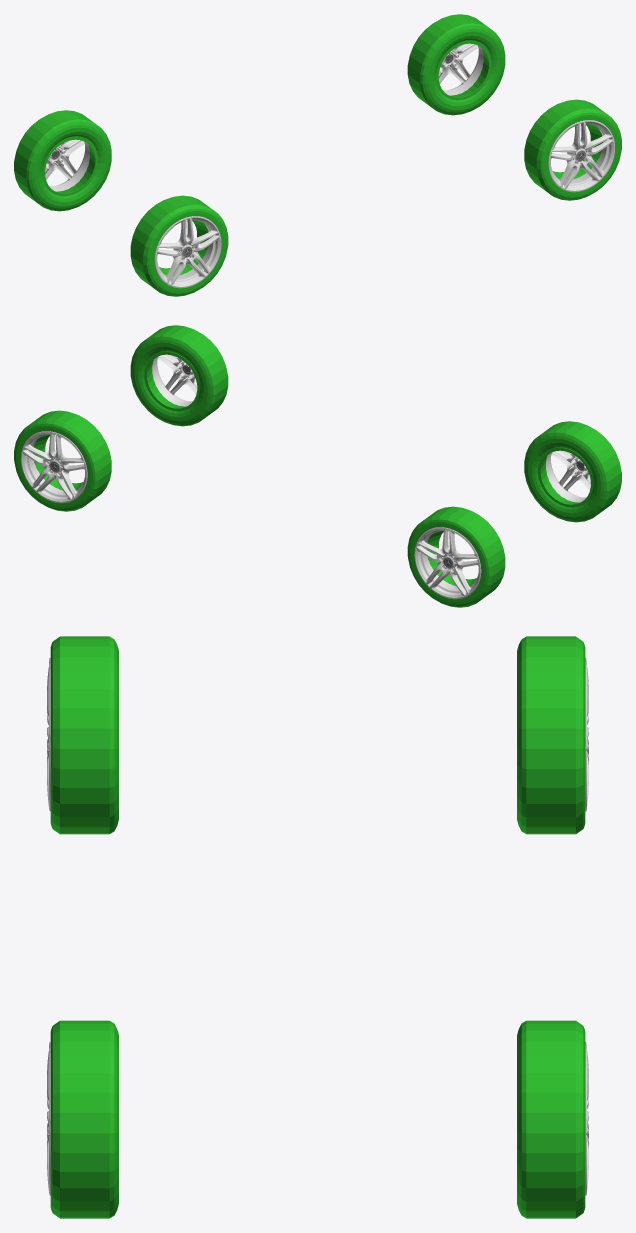
Rendered from RTD.glb.
The picture shows the model from 3 angles, top to bottom: view 1: azimuth 30°, elevation 25°; view 2: azimuth 150°, elevation 25°; view 3: azimuth 270°, elevation 25°; orthographic projection. The views are drawn at different scales.
Parts seen in each view (by area): view 1: Tire_Rubber007, Tire_Rubber008, _213_V_glossy_black_rim_006, _213_V_glossy_black_rim_001.006, _213_V_glossy_silver_rim001, _213_V_glossy_silver_rim.007, _213_V_glossy_black_rim_001.005, _213_V_glossy_black_rim_001.004, _213_V_glossy_black_rim_003.006, _213_V_glossy_black_rim_005, _213_V_glossy_black_rim_003.005, _213_V_glossy_black_rim_003.004; view 2: Tire_Rubber007, Tire_Rubber008, _213_V_glossy_black_rim_001.005, _213_V_glossy_black_rim_001.004, _213_V_glossy_silver_rim.006, _213_V_glossy_silver_rim.005, _213_V_glossy_black_rim_006, _213_V_glossy_black_rim_001.006, _213_V_glossy_black_rim_003.004, _213_V_glossy_black_rim_003.005, _213_V_glossy_black_rim_005, _213_V_glossy_black_rim_003.006; view 3: Tire_Rubber008, Tire_Rubber007.
Boxes of the visible parts, x1=… form: Tire_Rubber007: x1=14, y1=110, x2=228, y2=296; Tire_Rubber008: x1=407, y1=14, x2=621, y2=200; _213_V_glossy_black_rim_006: x1=154, y1=216, x2=221, y2=287; _213_V_glossy_black_rim_001.006: x1=548, y1=120, x2=614, y2=191; _213_V_glossy_silver_rim001: x1=155, y1=216, x2=221, y2=287; _213_V_glossy_silver_rim.007: x1=549, y1=120, x2=614, y2=191; _213_V_glossy_black_rim_001.005: x1=45, y1=139, x2=85, y2=185; _213_V_glossy_black_rim_001.004: x1=438, y1=43, x2=478, y2=89; _213_V_glossy_black_rim_003.006: x1=551, y1=123, x2=609, y2=186; _213_V_glossy_black_rim_005: x1=157, y1=219, x2=215, y2=282; _213_V_glossy_black_rim_003.005: x1=49, y1=138, x2=95, y2=191; _213_V_glossy_black_rim_003.004: x1=443, y1=42, x2=486, y2=95; Tire_Rubber007: x1=407, y1=421, x2=621, y2=607; Tire_Rubber008: x1=14, y1=325, x2=228, y2=511; _213_V_glossy_black_rim_001.005: x1=414, y1=527, x2=481, y2=598; _213_V_glossy_black_rim_001.004: x1=21, y1=431, x2=87, y2=502; _213_V_glossy_silver_rim.006: x1=414, y1=527, x2=480, y2=598; _213_V_glossy_silver_rim.005: x1=21, y1=431, x2=86, y2=502; _213_V_glossy_black_rim_006: x1=550, y1=450, x2=590, y2=496; _213_V_glossy_black_rim_001.006: x1=157, y1=354, x2=197, y2=400; _213_V_glossy_black_rim_003.004: x1=26, y1=434, x2=84, y2=497; _213_V_glossy_black_rim_003.005: x1=420, y1=530, x2=478, y2=593; _213_V_glossy_black_rim_005: x1=540, y1=449, x2=586, y2=502; _213_V_glossy_black_rim_003.006: x1=149, y1=353, x2=192, y2=406; Tire_Rubber008: x1=50, y1=1020, x2=585, y2=1218; Tire_Rubber007: x1=50, y1=636, x2=585, y2=834.
Size of the model in its own units: 3.75 by 0.6704 by 1.84.
